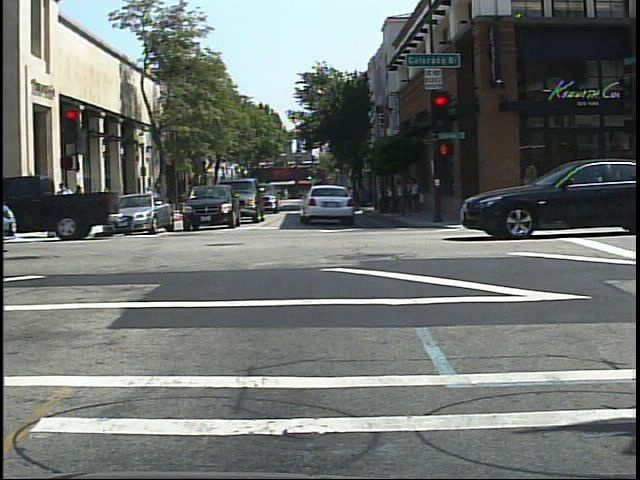person: (151, 180, 169, 218), (141, 184, 160, 216), (91, 188, 105, 229)
